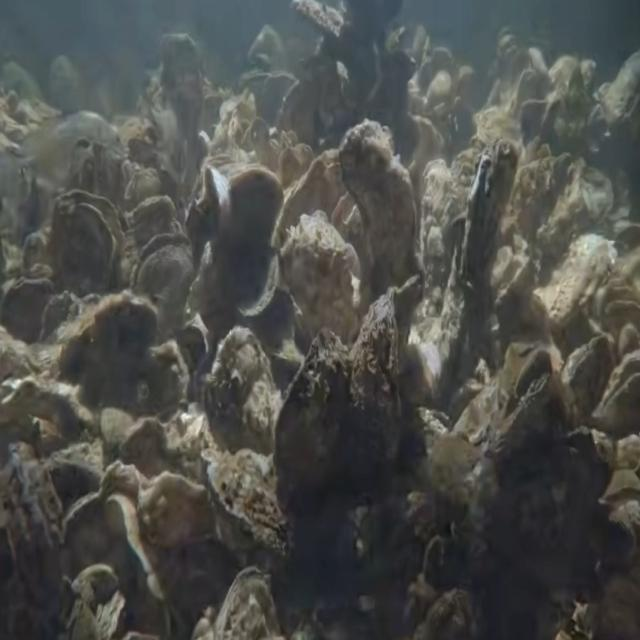Oyster-Closed: (338, 119, 416, 289), (204, 446, 297, 567), (213, 566, 281, 640), (0, 274, 61, 339)
Oyster-Indeterminate: (441, 138, 520, 367), (274, 323, 355, 518), (447, 343, 556, 470), (0, 440, 67, 639), (48, 295, 158, 403), (280, 209, 362, 347), (344, 290, 404, 471), (219, 161, 282, 326), (210, 325, 282, 455), (52, 188, 125, 299), (534, 231, 618, 325), (421, 159, 464, 324), (133, 339, 192, 420), (561, 332, 614, 414)
Oyster-Open: (130, 230, 195, 341), (191, 161, 229, 264), (594, 351, 640, 424)
